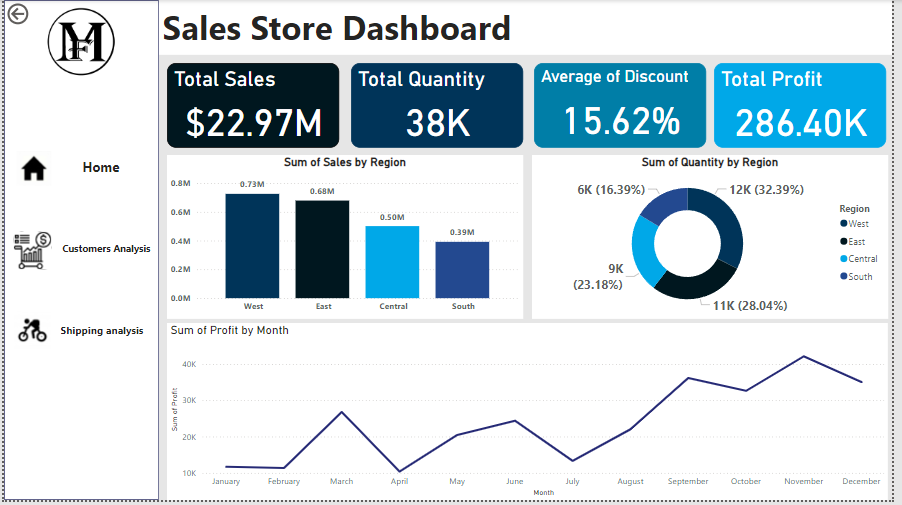

What the dashboard file says about the page in this screenshot:
{"tool":"powerbi","page":{"name":"Home","canvas":[1280,720],"ordinal":0},"visuals":[{"type":"shape","box":[0,0,223.2,720],"z":0},{"type":"actionButton","box":[10.1,210.2,66.2,63.4],"z":1000},{"type":"card","title":"Total Sales","fields":{"Values":["Sum(Sheet1.TOAL SALES)"]},"box":[234.7,90.7,247.7,122.4],"z":2000},{"type":"textbox","box":[108,223.2,74.9,36],"z":3000},{"type":"actionButton","box":[10.1,329.8,72,60.5],"z":4000},{"type":"actionButton","box":[10.1,443.5,66.2,63.4],"z":5000},{"type":"textbox","box":[76.3,459.4,145.4,47.5],"z":6000},{"type":"image","box":[0,0,221.8,116.6],"z":7000},{"type":"textbox","box":[223.4,0,1056.6,79],"z":8000},{"type":"card","title":"Total Quantity","fields":{"Values":["Sum(Sheet1.Quantity)"]},"box":[499.7,90.7,247.7,122.4],"z":9000},{"type":"card","title":"Average of Discount","fields":{"Values":["Avg(Sheet1.Discount)"]},"box":[763.2,90.7,247.7,122.4],"z":10000},{"type":"card","title":"Total Profit","fields":{"Values":["Sum(Sheet1.Profit)"]},"box":[1022.4,90.7,247.7,122.4],"z":11000},{"type":"clusteredColumnChart","fields":{"Category":["Sheet1.Region"],"Y":["Sum(Sheet1.Sales)"]},"box":[234.7,223.2,512.6,236.2],"z":12000},{"type":"lineChart","fields":{"Category":["Sheet1.Ship Date.Variation.Date Hierarchy.Month"],"Y":["Sum(Sheet1.Profit)"]},"box":[234.7,465.1,1038.2,254.9],"z":13000},{"type":"donutChart","fields":{"Y":["Sum(Sheet1.Quantity)"],"Category":["Sheet1.Region"]},"box":[760.3,223.2,512.6,236.2],"z":14000},{"type":"textbox","box":[75.6,342.7,144.5,47],"z":15000},{"type":"actionButton","box":[0,0,100,40],"z":16000}]}

Visuals, with their boxes in screenshot pixels (x1, y1, x2, y2), scaled from the page's 1280x720 canvas onto the 902x505 screenshot:
shape: crop(0, 0, 157, 504)
actionButton: crop(7, 147, 54, 192)
"Total Sales" card: crop(165, 64, 340, 149)
textbox: crop(76, 157, 129, 182)
actionButton: crop(7, 231, 58, 274)
actionButton: crop(7, 311, 54, 356)
textbox: crop(54, 322, 156, 356)
image: crop(0, 0, 156, 82)
textbox: crop(157, 0, 901, 55)
"Total Quantity" card: crop(352, 64, 527, 149)
"Average of Discount" card: crop(538, 64, 712, 149)
"Total Profit" card: crop(720, 64, 895, 149)
clusteredColumnChart - Sheet1.Region x Sum(Sheet1.Sales): crop(165, 157, 527, 322)
lineChart - Sheet1.Ship Date.Variation.Date Hierarchy.Month x Sum(Sheet1.Profit): crop(165, 326, 897, 504)
donutChart - Sum(Sheet1.Quantity) x Sheet1.Region: crop(536, 157, 897, 322)
textbox: crop(53, 240, 155, 273)
actionButton: crop(0, 0, 70, 28)
